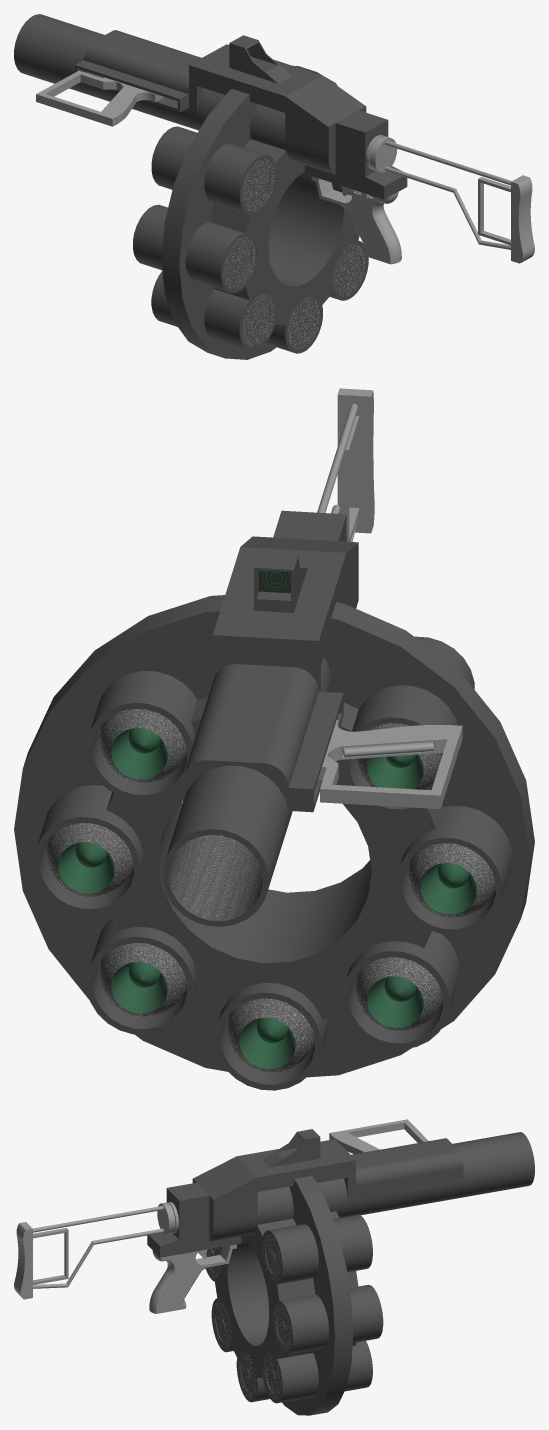
3 views of the same model, one above another, from view 1: azimuth 30°, elevation 25°; view 2: azimuth 150°, elevation 25°; view 3: azimuth 270°, elevation 25° (orthographic). The views are drawn at different scales.
Parts seen in each view (by area): view 1: mesh2_mesh2-geometry, mesh59_mesh59-geometry, mesh1_mesh1-geometry, mesh48_mesh48-geometry, mesh55_mesh55-geometry, mesh32_mesh32-geometry, mesh41_mesh41-geometry, mesh31_mesh31-geometry, mesh33_mesh33-geometry; view 2: mesh2_mesh2-geometry, mesh59_mesh59-geometry, mesh1_mesh1-geometry, mesh55_mesh55-geometry, mesh32_mesh32-geometry, mesh33_mesh33-geometry; view 3: mesh2_mesh2-geometry, mesh59_mesh59-geometry, mesh1_mesh1-geometry, mesh48_mesh48-geometry, mesh32_mesh32-geometry, mesh55_mesh55-geometry, mesh31_mesh31-geometry, mesh33_mesh33-geometry, mesh41_mesh41-geometry.
Part boxes in pixels (x1,y1,x2,y2): mesh2_mesh2-geometry: (133,65,368,359); mesh59_mesh59-geometry: (14,14,407,199); mesh1_mesh1-geometry: (223,158,366,349); mesh48_mesh48-geometry: (311,176,401,264); mesh55_mesh55-geometry: (36,70,164,126); mesh32_mesh32-geometry: (478,175,534,263); mesh41_mesh41-geometry: (366,135,397,172); mesh31_mesh31-geometry: (385,166,510,249); mesh33_mesh33-geometry: (385,140,511,185); mesh2_mesh2-geometry: (14,595,534,1090); mesh59_mesh59-geometry: (162,510,358,926); mesh1_mesh1-geometry: (46,709,495,1072); mesh55_mesh55-geometry: (318,720,462,808); mesh32_mesh32-geometry: (337,388,374,541); mesh33_mesh33-geometry: (317,403,358,512); mesh2_mesh2-geometry: (206,1175,383,1415); mesh59_mesh59-geometry: (147,1129,534,1257); mesh1_mesh1-geometry: (206,1234,291,1399); mesh48_mesh48-geometry: (149,1244,236,1313); mesh32_mesh32-geometry: (14,1222,68,1299); mesh55_mesh55-geometry: (329,1119,428,1154); mesh31_mesh31-geometry: (33,1228,163,1288); mesh33_mesh33-geometry: (33,1206,163,1232); mesh41_mesh41-geometry: (157,1202,178,1234).
Bounding box in the file's own units: 0.4359 × 0.4416 × 0.7842.
